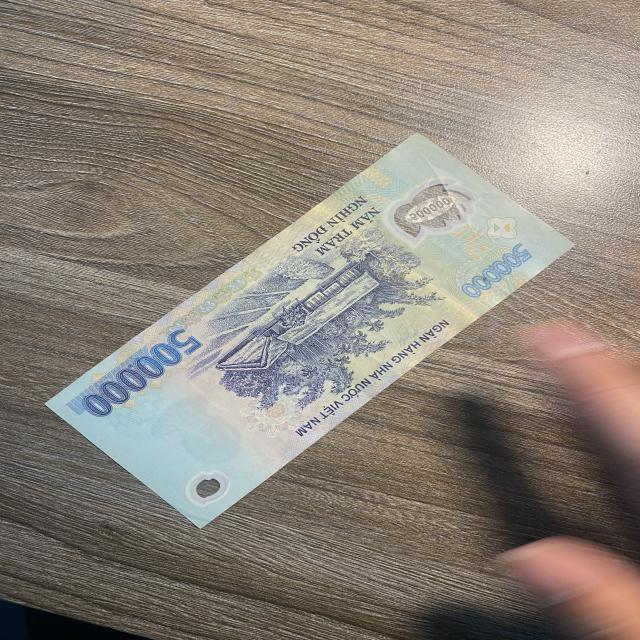500 000 VND: (43, 132, 576, 530)
